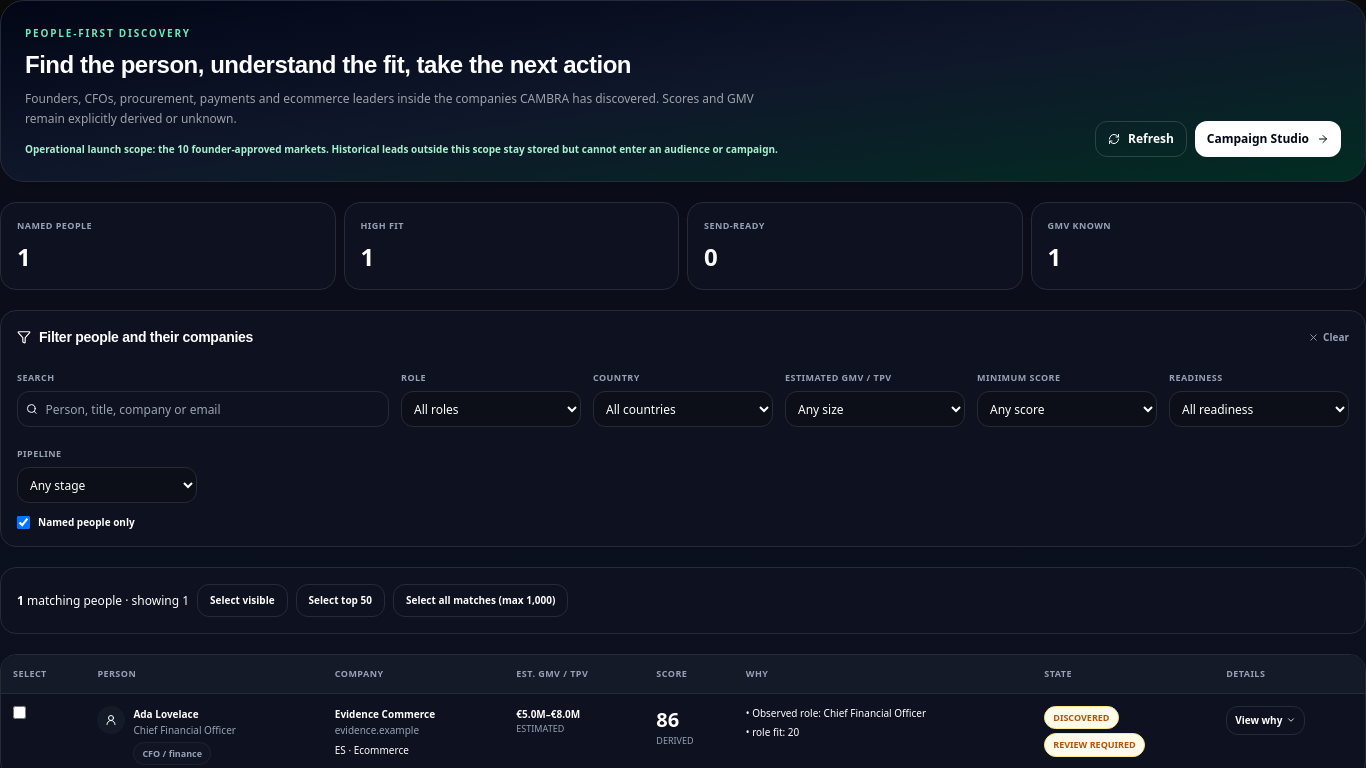
Test case: PeopleDiscovery › shows people, score reasons and saves an explicit reusable audience
Expected: the text "Ada Lovelace" is shown, [133,707,199,721]
Expected: the text "Chief Financial Officer" is shown, [133,722,236,738]
Click the button "View why" at (1266, 720), box [1226,706,1305,735]
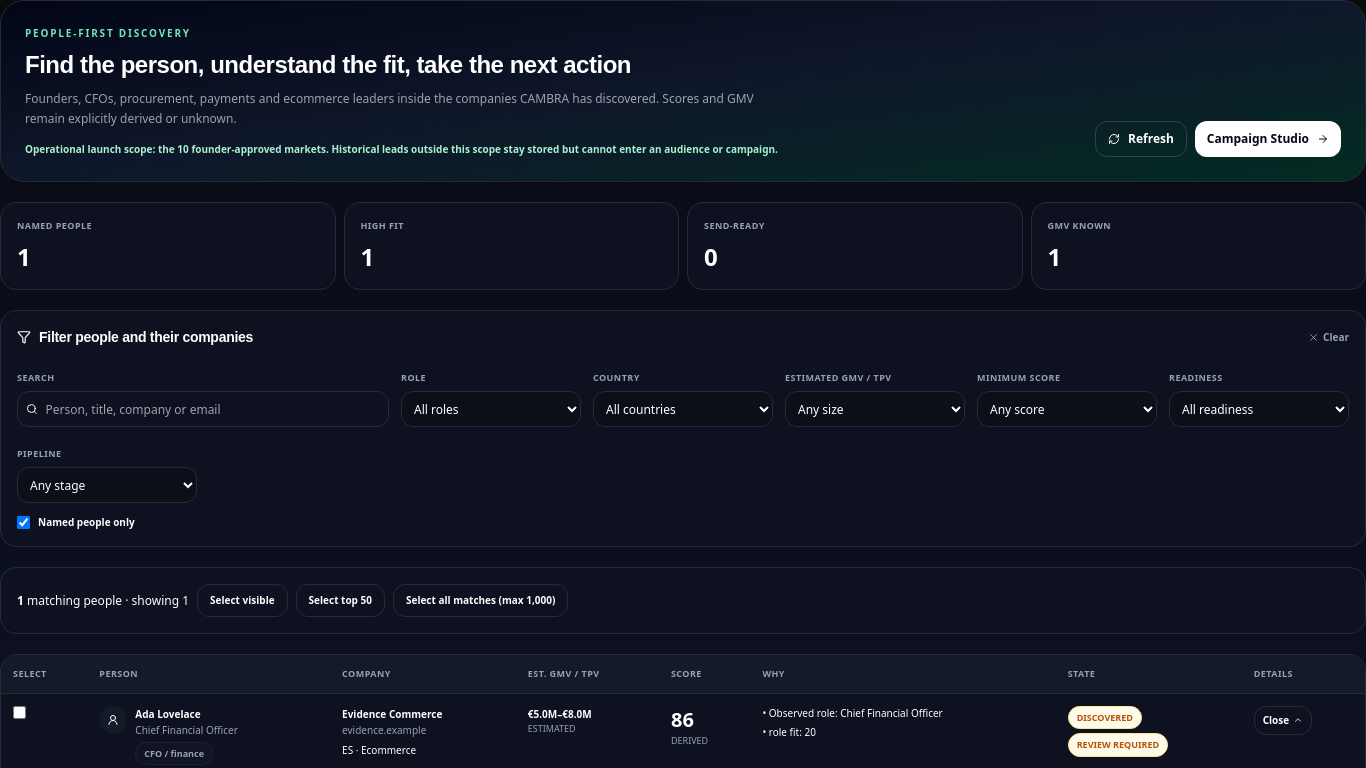
Click the checkbox named "Select Ada Lovelace" at (20, 712), box [13,706,26,719]
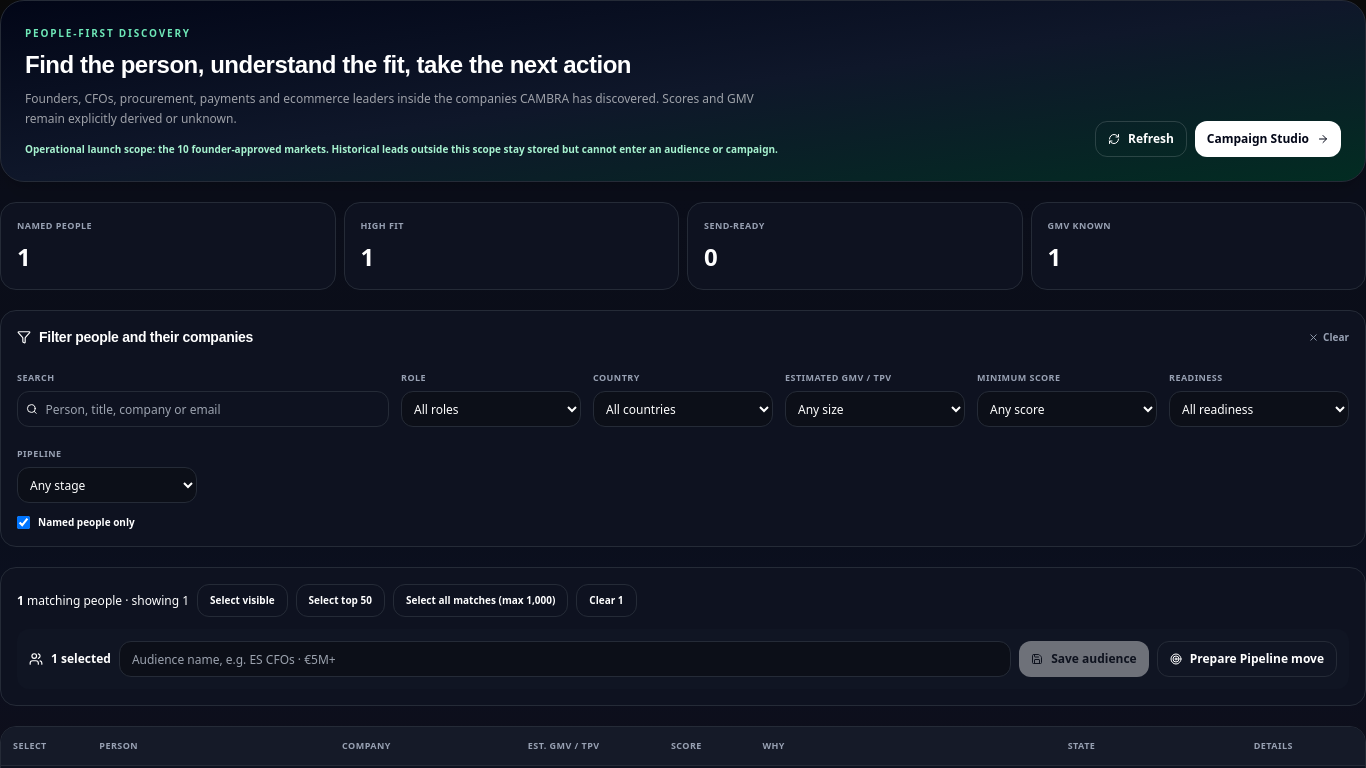
Type "ES CFOs · €5M+" into the field labelled "Audience name" at (565, 659), box [119,641,1011,677]
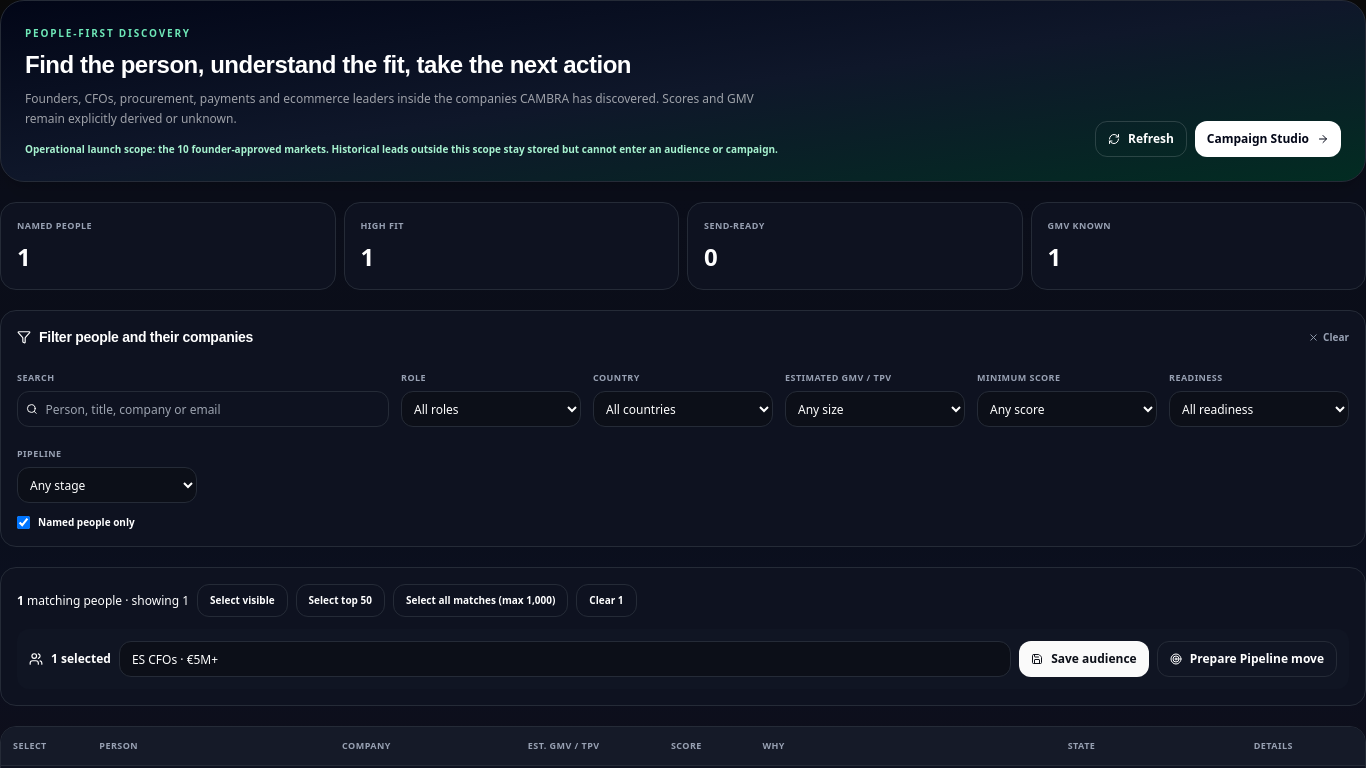
Click the button "Save audience" at (1084, 659), box [1019,641,1149,677]
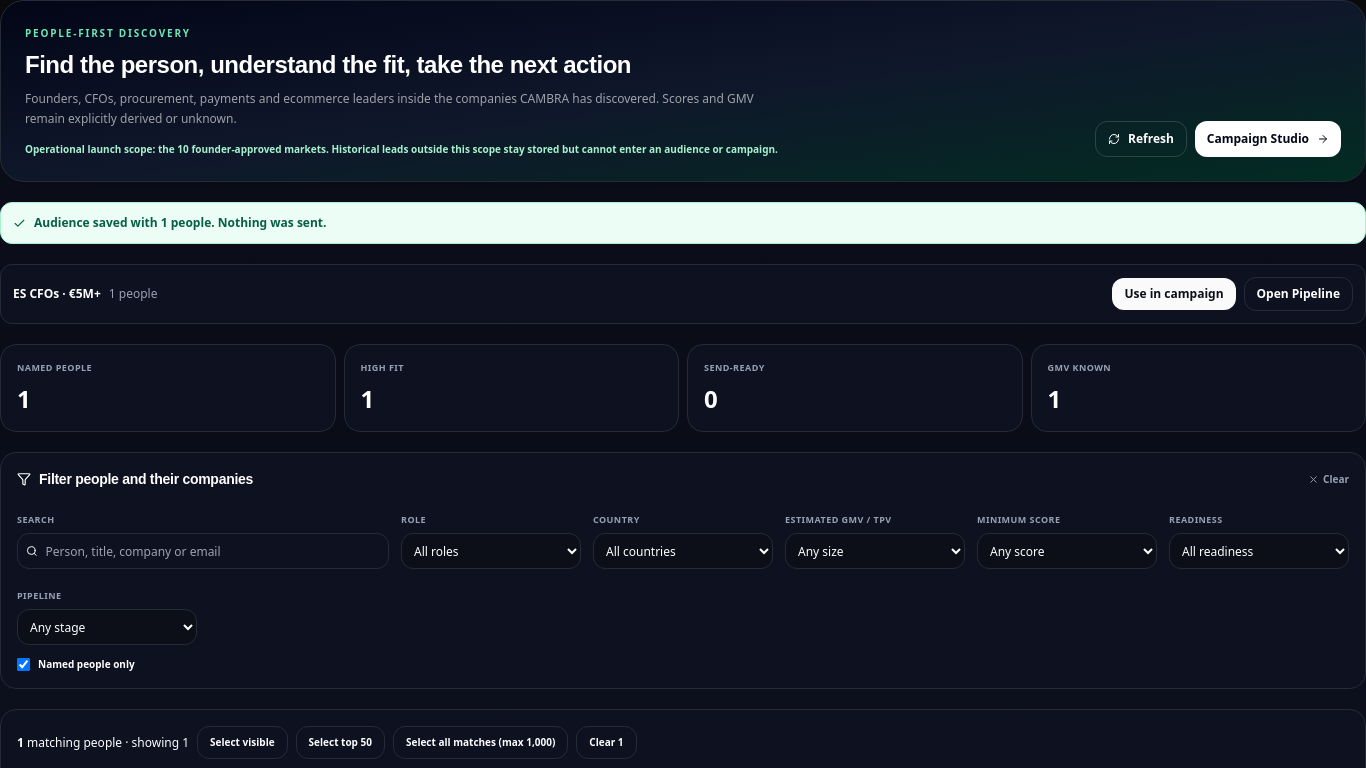
Result: the text "Audience saved with 1 people. Nothing was sent." is shown at [0,202,1365,244]
